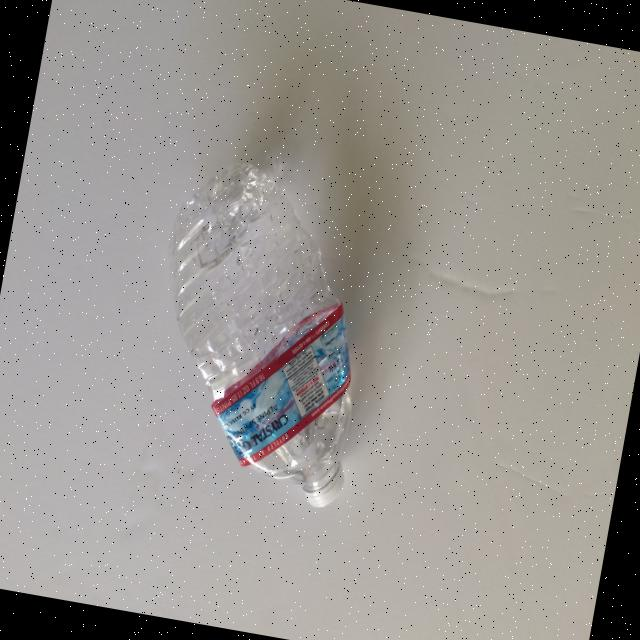plastic: (127, 149, 395, 512)
